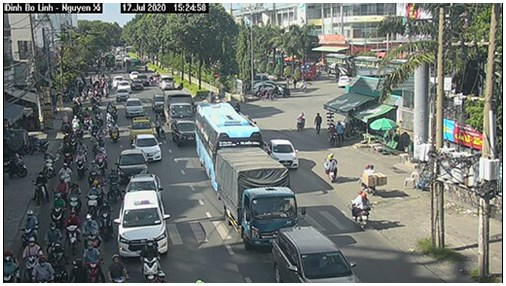xe_buyt: (192, 104, 265, 192)
xe_hoi: (272, 226, 362, 283), (118, 192, 172, 259), (125, 171, 165, 201), (265, 136, 298, 170), (129, 132, 164, 164), (117, 149, 151, 178), (170, 116, 196, 149), (128, 116, 155, 141), (123, 98, 146, 118)
xe_may: (139, 237, 164, 283), (345, 189, 372, 228), (82, 240, 105, 282), (362, 162, 388, 195), (62, 209, 82, 251), (18, 209, 40, 247), (81, 212, 103, 250), (97, 198, 116, 238), (30, 169, 49, 206), (109, 250, 130, 283), (42, 221, 63, 254), (25, 236, 41, 279), (51, 242, 67, 283), (30, 256, 54, 283), (106, 166, 122, 204), (47, 191, 65, 223), (66, 254, 85, 284), (82, 184, 101, 214), (322, 151, 340, 182), (4, 250, 19, 283), (39, 150, 56, 179), (67, 181, 81, 213), (87, 160, 103, 185), (73, 149, 86, 178), (55, 175, 68, 200), (295, 111, 309, 134)
xe_tai: (216, 147, 299, 248)
